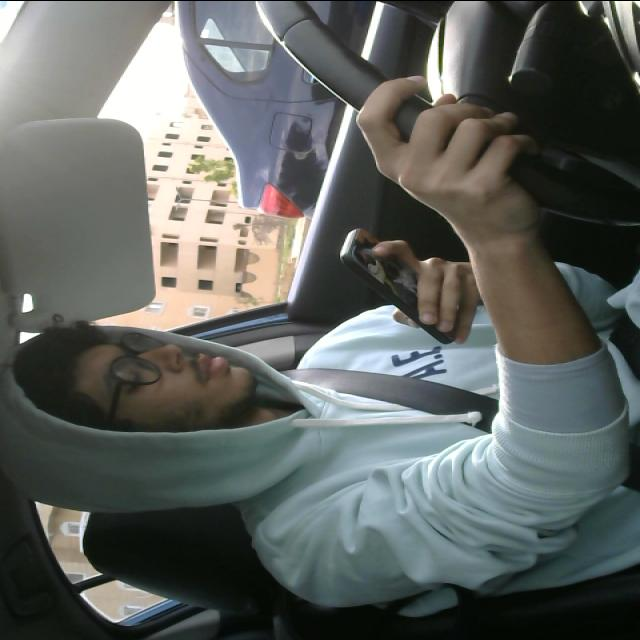mobile use: (334, 226, 462, 349)
